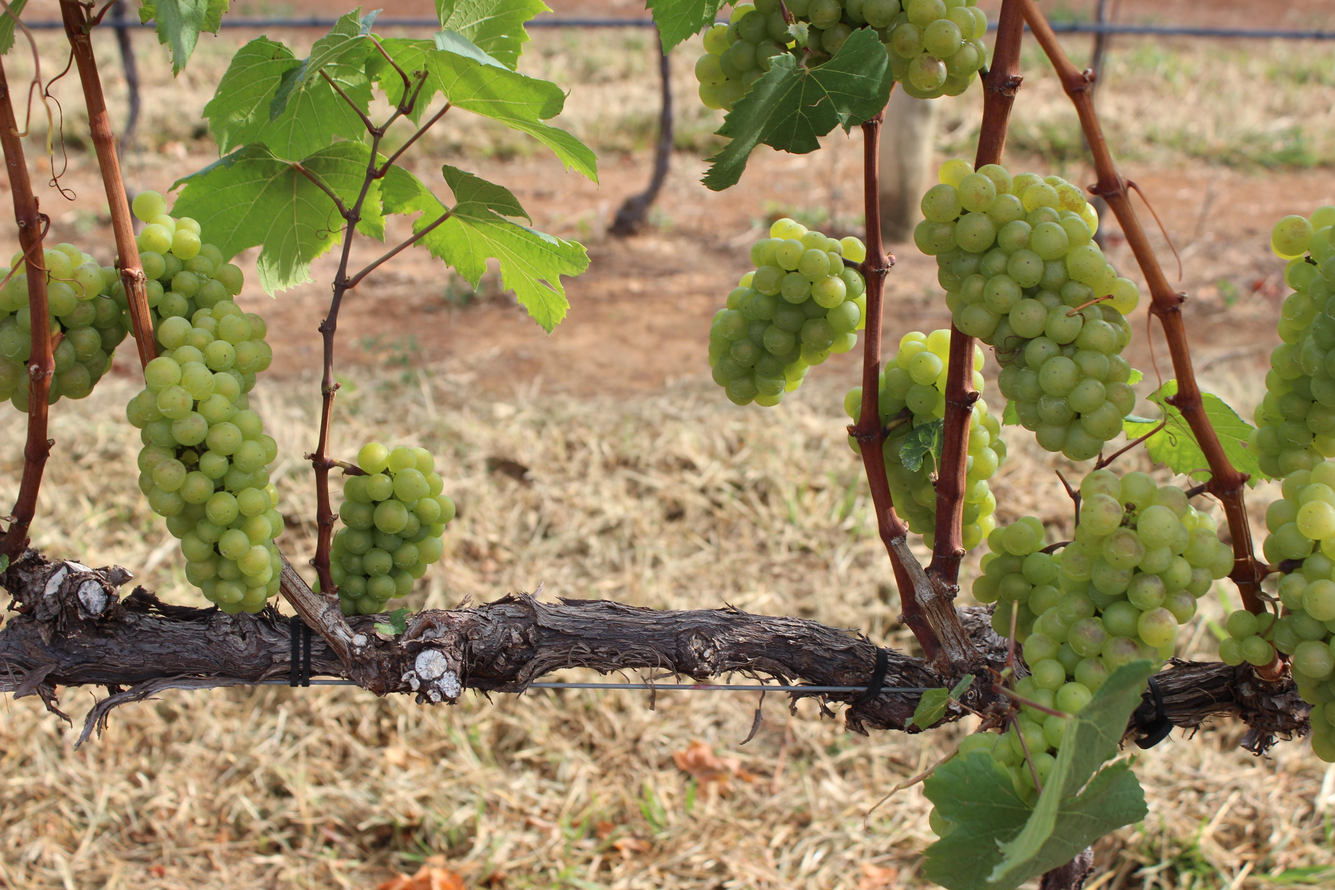leaf: (924, 661, 1153, 889), (381, 165, 588, 332), (382, 32, 597, 182), (703, 28, 892, 190), (172, 143, 343, 293), (204, 10, 374, 160), (436, 0, 550, 69), (139, 0, 229, 74), (1145, 380, 1210, 480), (1202, 392, 1267, 486), (300, 142, 370, 206), (646, 0, 721, 51), (899, 418, 943, 472), (368, 57, 404, 104), (358, 182, 384, 240), (0, 0, 27, 55), (1124, 418, 1160, 439), (1021, 766, 1024, 768)
